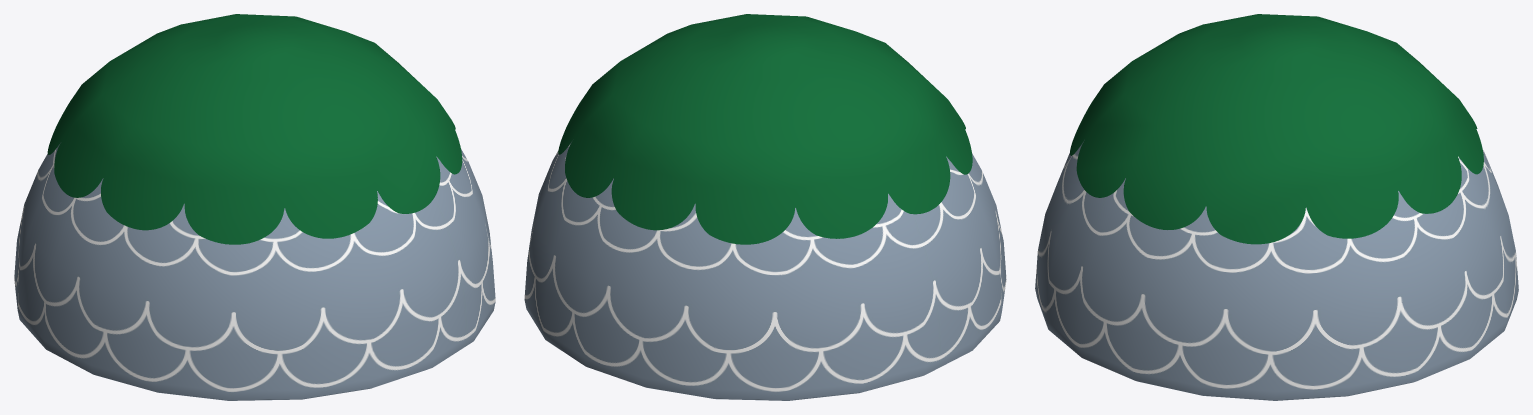
The model's file is RockGigaTextured.fbx.
3 views of the same model, side by side, from view 1: azimuth 30°, elevation 25°; view 2: azimuth 150°, elevation 25°; view 3: azimuth 270°, elevation 25° (orthographic).
Parts seen in each view (by area): view 1: Rock70, Rock69; view 2: Rock70, Rock69; view 3: Rock70, Rock69.
Boxes of the visible parts, x1,y1,x2,y2 form: Rock70: (14,143,495,400); Rock69: (47,14,462,244); Rock70: (524,142,1006,400); Rock69: (558,14,972,244); Rock70: (1035,140,1518,400); Rock69: (1070,14,1483,244).
Size of the model in its own units: 3.11 by 1.86 by 3.11.
